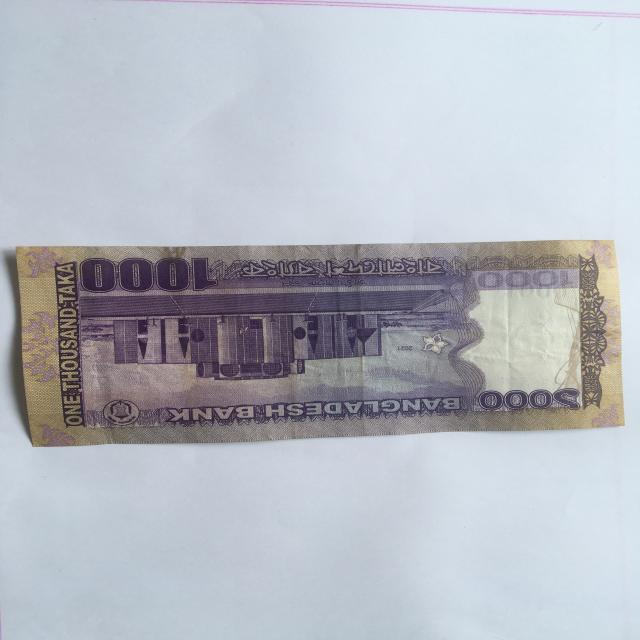Taka: (6, 237, 631, 438)
